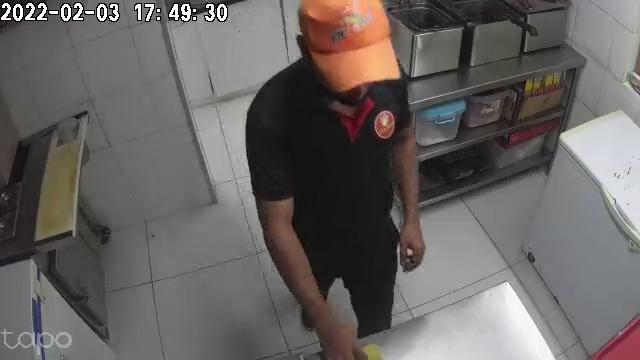no_gloves: (396, 208, 426, 274)
